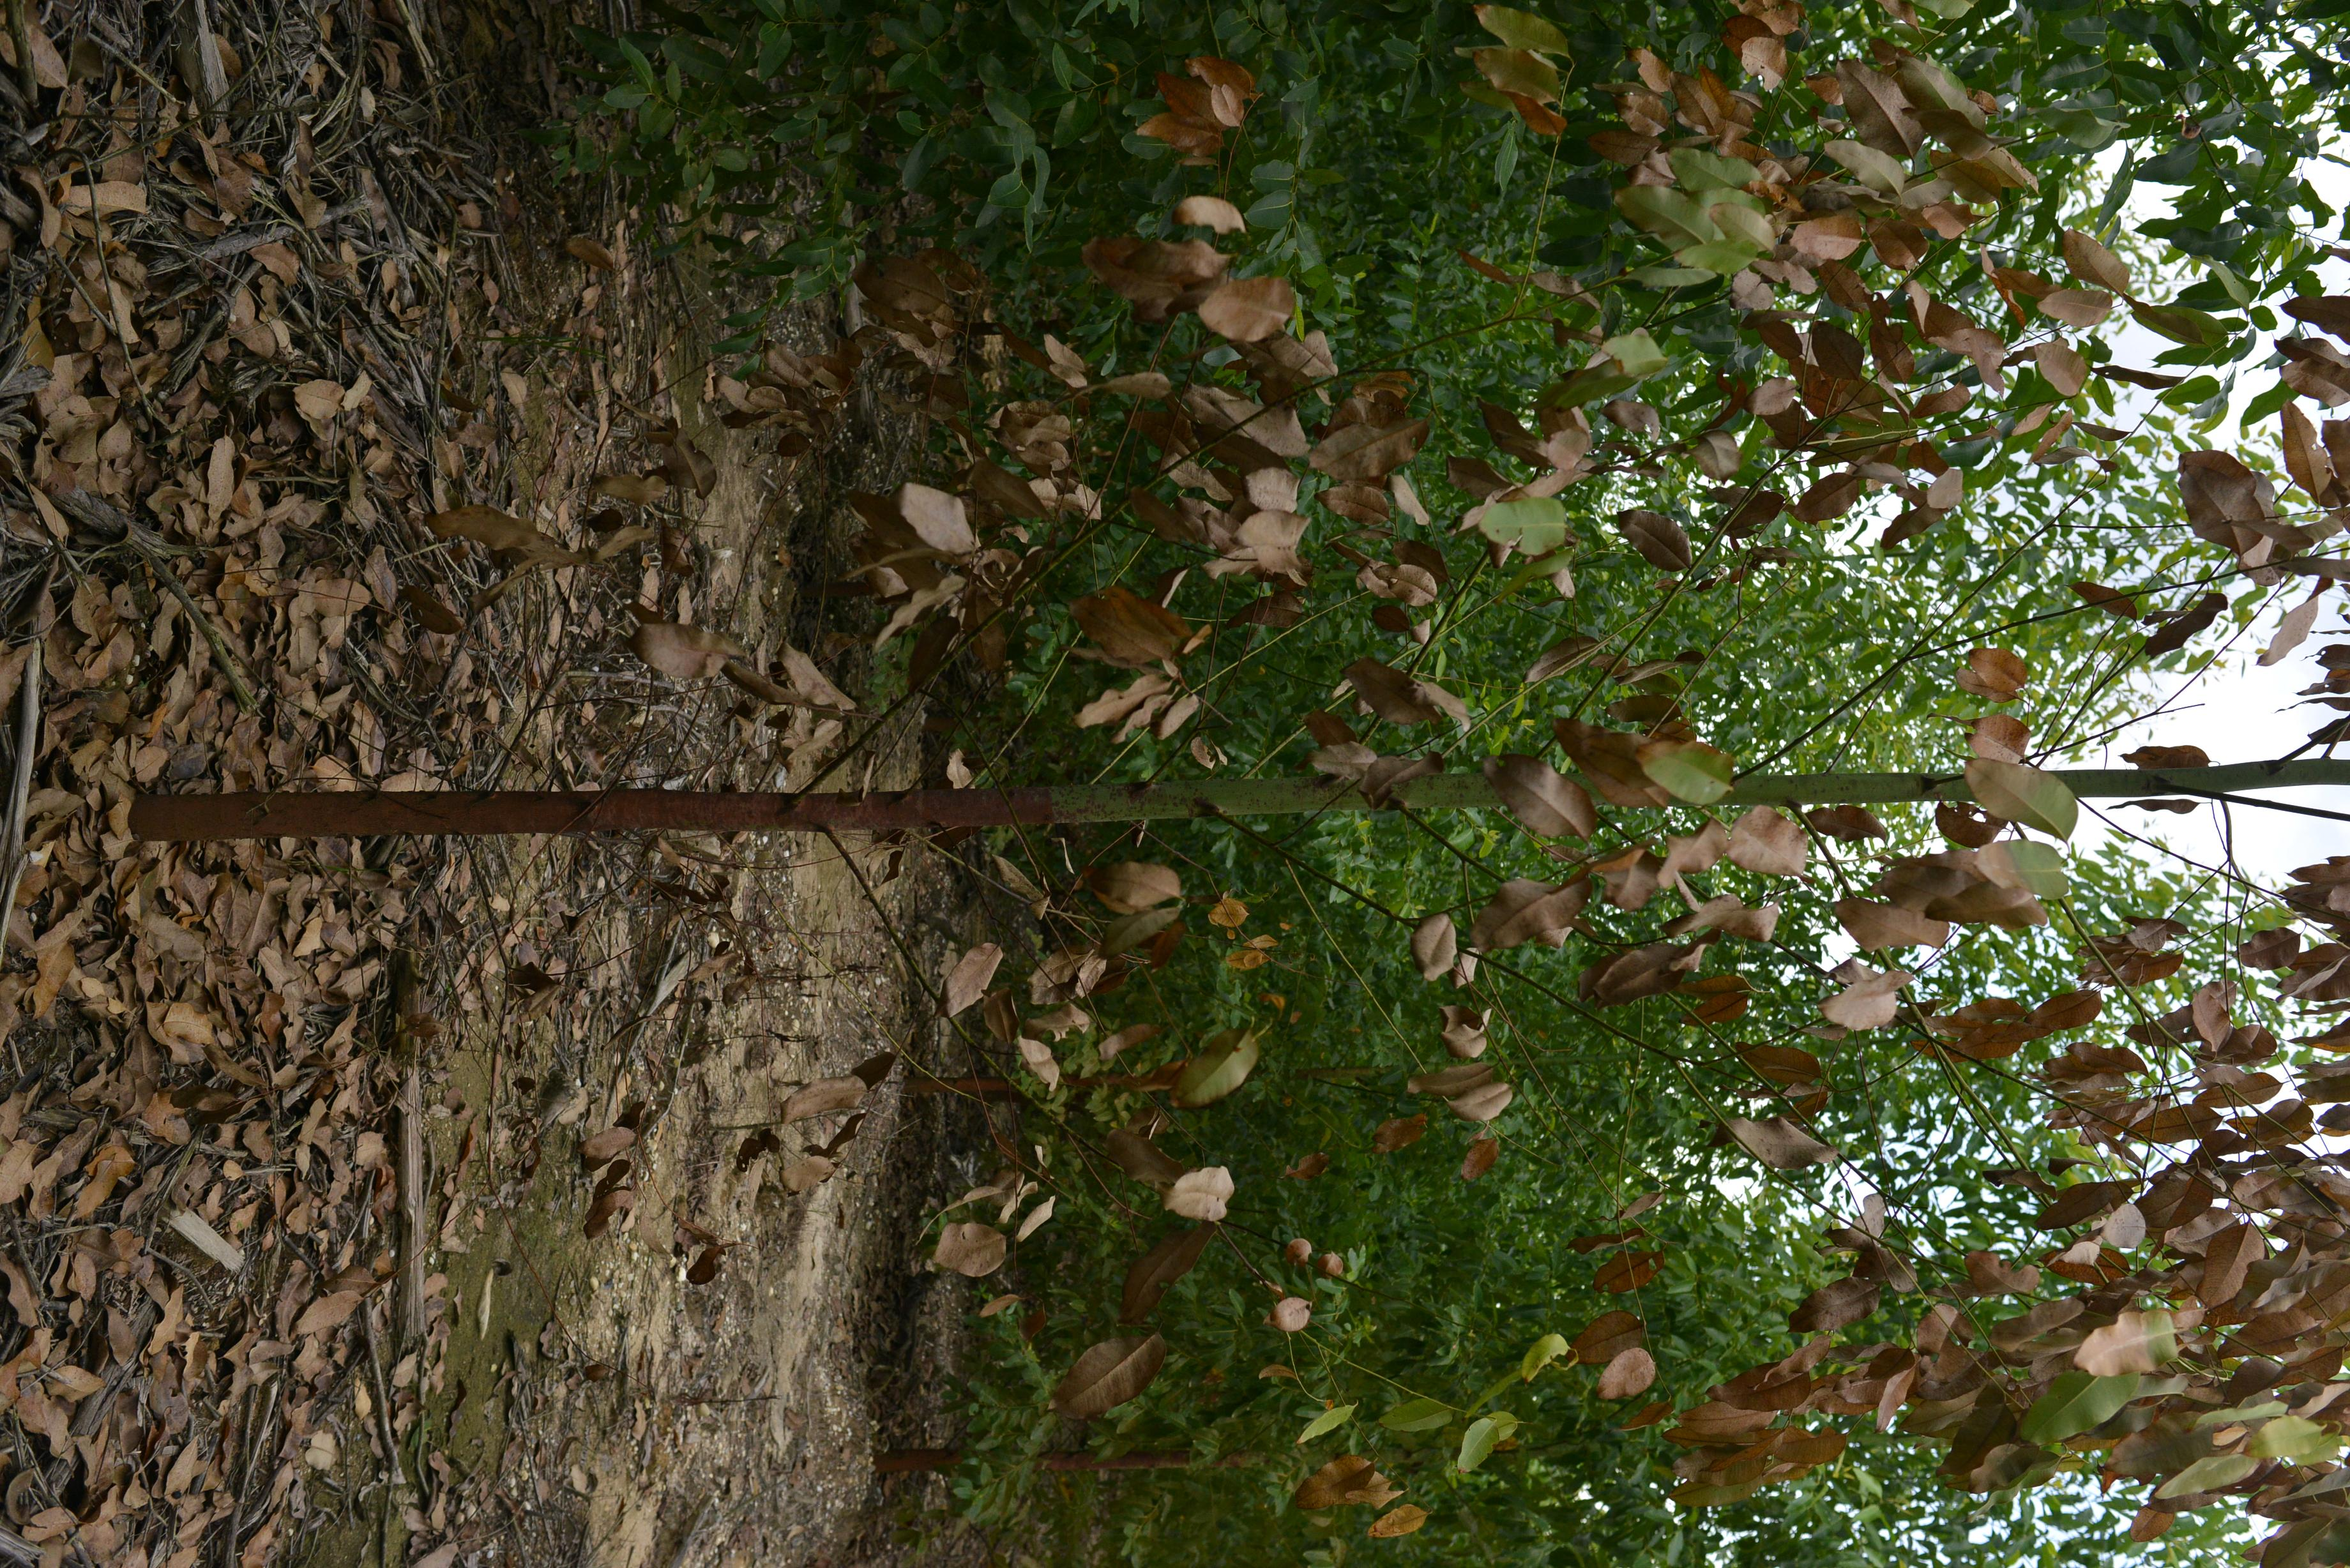Wither Tree Parts: (198, 16, 2350, 1568)
